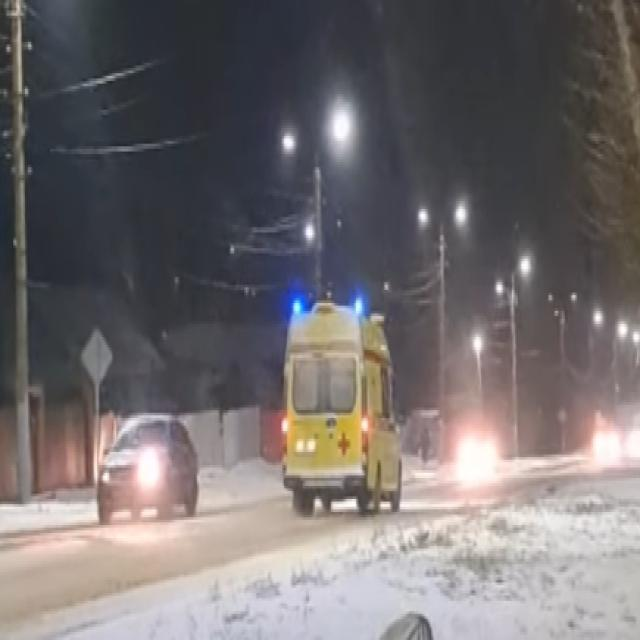intensive care unit: (283, 291, 403, 516)
non emergency car: (99, 409, 200, 526)
